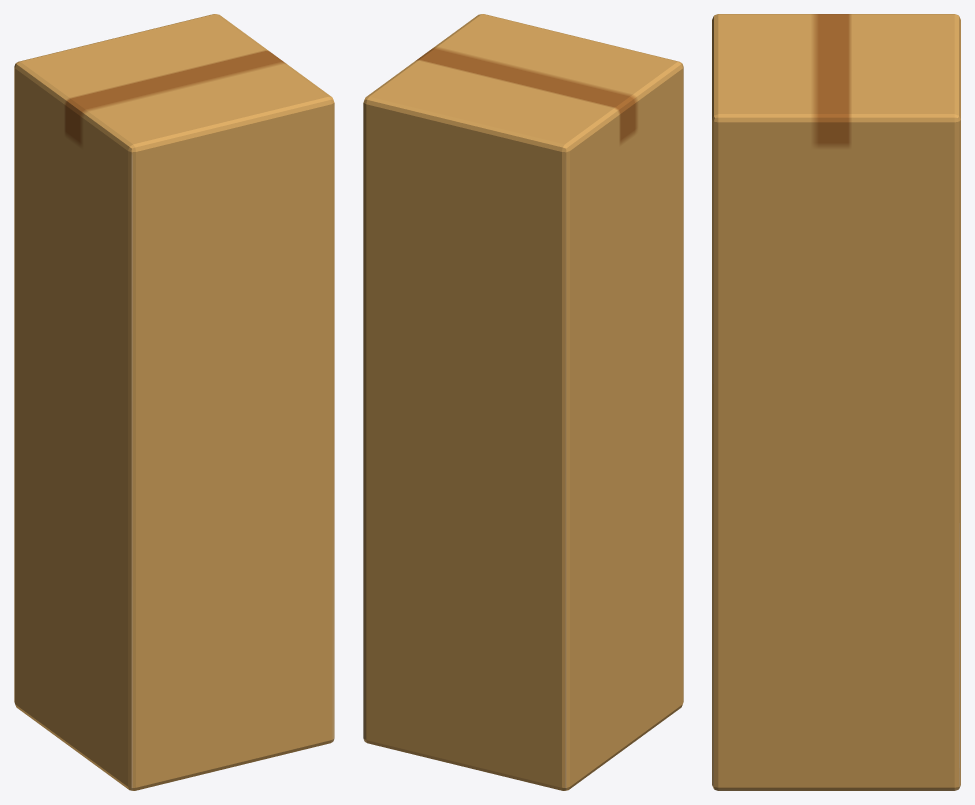
Rendered from Y3BoxCardboard.fbx.
3 renders of one model, left to right at view 1: azimuth 30°, elevation 25°; view 2: azimuth 150°, elevation 25°; view 3: azimuth 270°, elevation 25°, orthographic. The views are drawn at different scales.
Visible parts, largest first — view 1: dan3; view 2: dan3; view 3: dan3.
Part boxes in pixels (x1,y1,x2,y2): dan3: [14, 14, 334, 790]; dan3: [363, 14, 683, 790]; dan3: [712, 14, 960, 790].
Bounding box in the file's own units: 1 × 3 × 1.
Materials: 1 (1 with a texture image).
